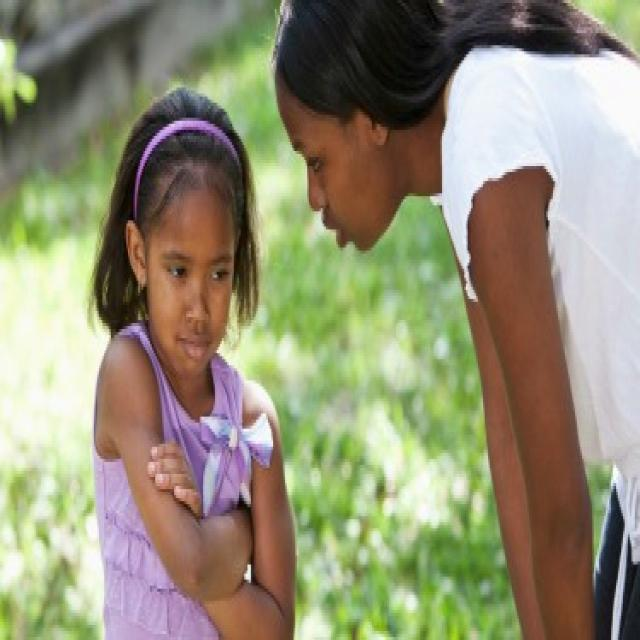adult: (273, 0, 640, 640)
child: (78, 81, 298, 640)
